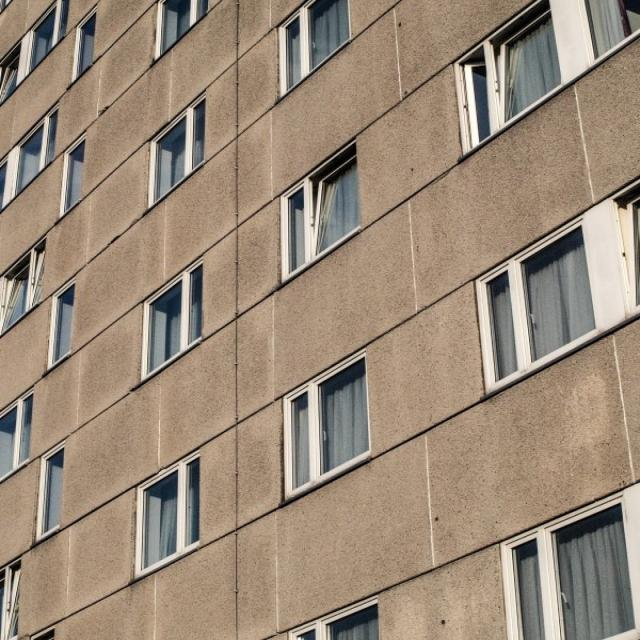Window: (460, 35, 573, 132), (508, 538, 623, 628), (478, 285, 607, 336), (286, 394, 368, 458), (138, 486, 202, 548), (289, 190, 361, 238), (6, 123, 52, 180), (4, 15, 62, 58), (140, 302, 200, 343), (278, 21, 342, 56), (40, 458, 62, 524), (152, 139, 202, 168), (296, 622, 378, 638), (8, 270, 36, 314), (1, 415, 29, 459), (51, 298, 70, 354), (160, 5, 197, 25), (65, 154, 80, 202), (5, 570, 16, 628), (82, 26, 97, 66)
